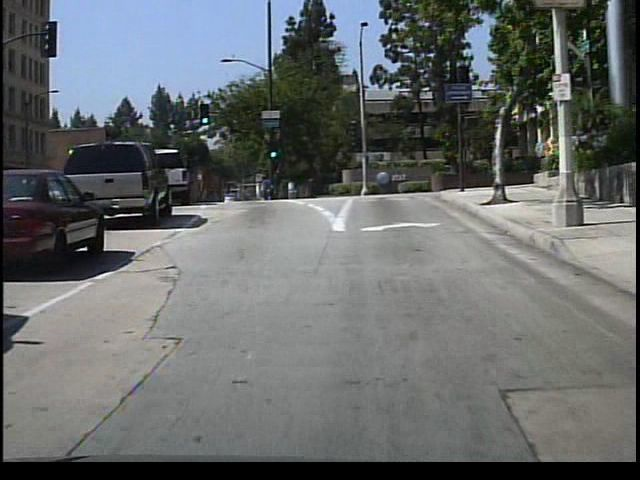person: (256, 169, 276, 203), (284, 175, 300, 201)
